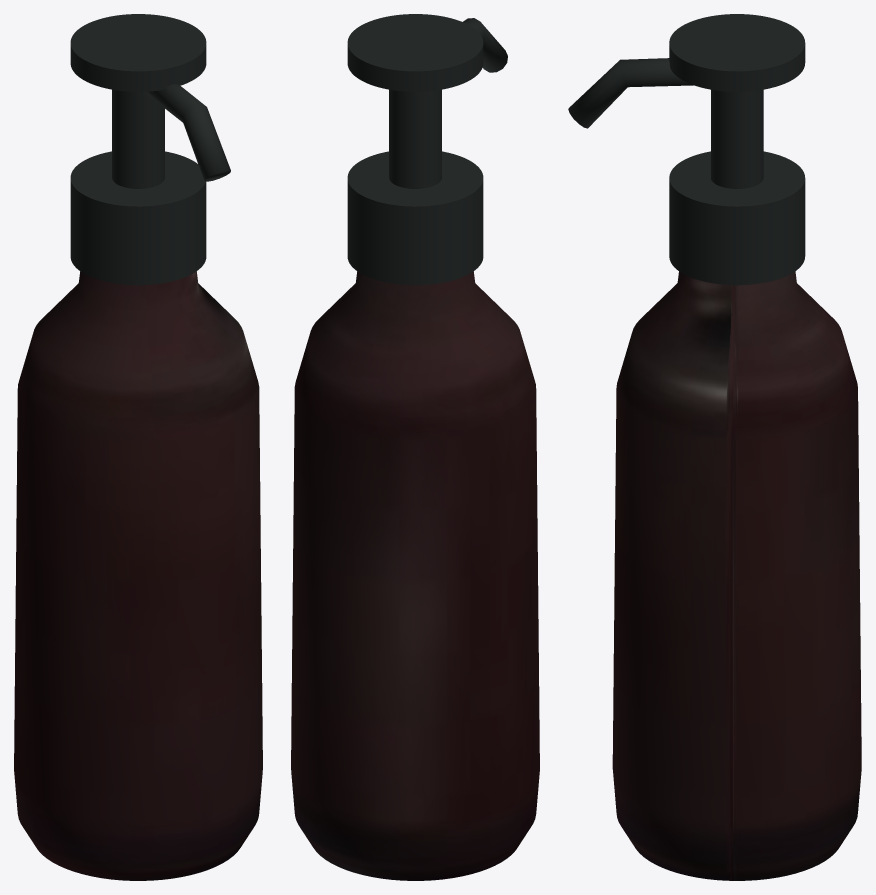
File: sink_faucet__sink_amber_pump_bottle.glb
3 renders of one model, left to right at view 1: azimuth 30°, elevation 25°; view 2: azimuth 150°, elevation 25°; view 3: azimuth 270°, elevation 25°, orthographic.
Parts seen in each view (by area): view 1: bottle, pump; view 2: bottle, pump; view 3: bottle, pump.
Part boxes in pixels (left/top/right/bottom): bottle: left=14, top=151, right=262, bottom=880; pump: left=70, top=14, right=230, bottom=188; bottle: left=291, top=151, right=539, bottom=880; pump: left=347, top=14, right=507, bottom=188; bottle: left=612, top=151, right=861, bottom=880; pump: left=568, top=14, right=805, bottom=188.
Size of the model in its own units: 0.066 by 0.232 by 0.0778.
2 materials, 1 textured.
